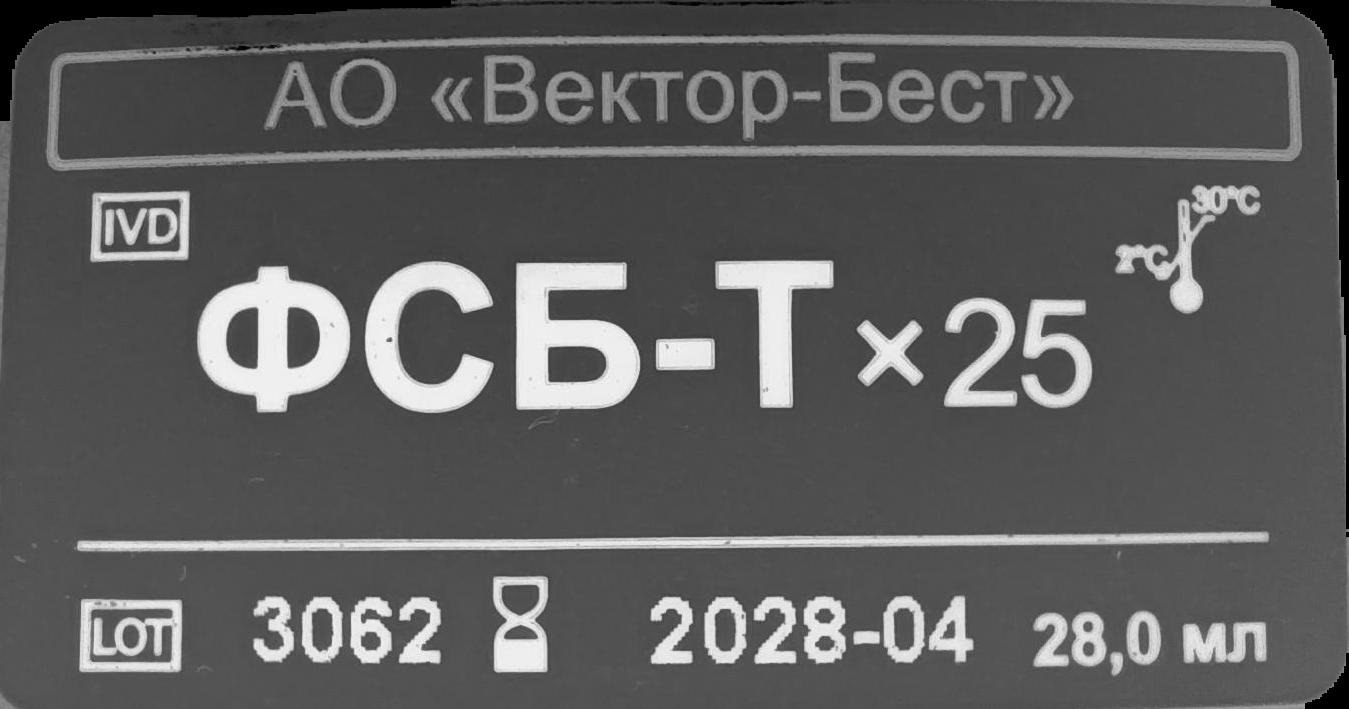something: (1109, 176, 1266, 317), (74, 595, 184, 679), (86, 189, 195, 265), (489, 575, 550, 678)
text: (193, 248, 1099, 432), (259, 55, 1080, 147), (639, 587, 974, 675), (1026, 601, 1275, 683), (244, 590, 444, 668)
